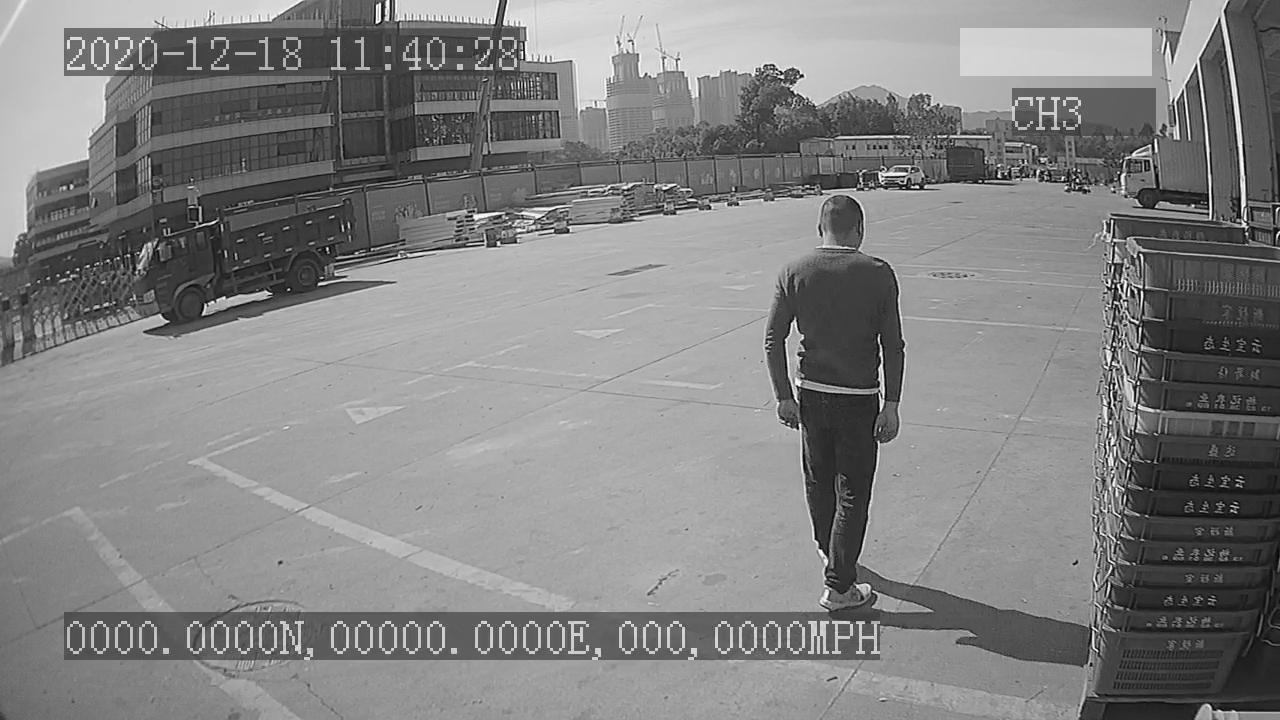person: (762, 190, 906, 607)
